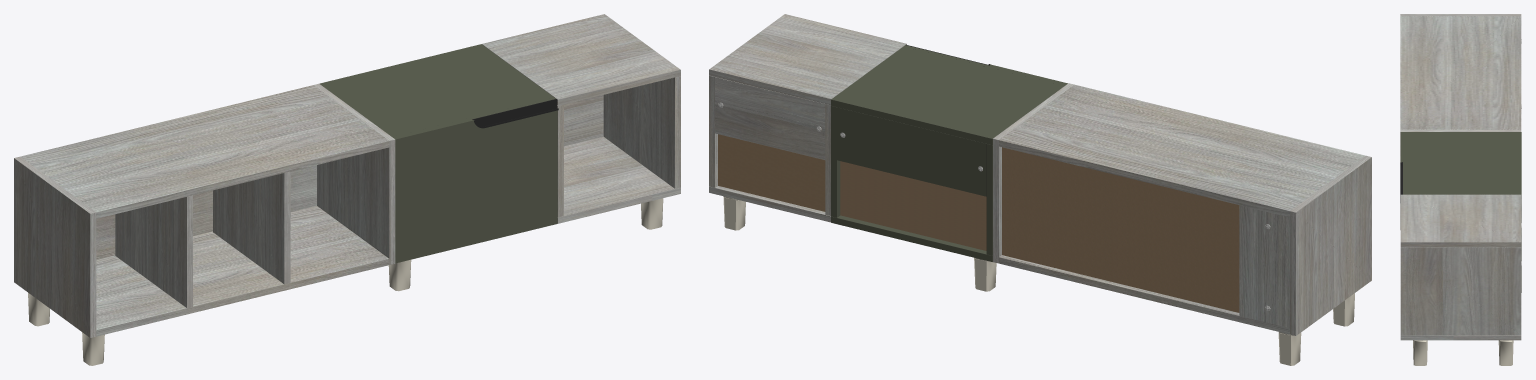
3 views of the same model, side by side, from view 1: azimuth 30°, elevation 25°; view 2: azimuth 150°, elevation 25°; view 3: azimuth 270°, elevation 25° (orthographic). The views are drawn at different scales.
Parts seen in each view (by area): view 1: Cube.005, group_0.148, group_0.145, group_0.114, Plane, group_0.149; view 2: Cube.005, group_0.148, group_0.145, group_0.150, Plane.001, group_0.114; view 3: group_0.145, Cube.005, group_0.148, group_0.114.
Boxes of the visible parts, x1=… form: Cube.005: x1=14, y1=83, x2=395, y2=337; group_0.148: x1=319, y1=44, x2=557, y2=263; group_0.145: x1=482, y1=14, x2=680, y2=223; group_0.114: x1=28, y1=198, x2=663, y2=365; Plane: x1=564, y1=95, x2=603, y2=146; group_0.149: x1=472, y1=99, x2=558, y2=128; Cube.005: x1=993, y1=83, x2=1371, y2=335; group_0.148: x1=831, y1=45, x2=1067, y2=261; group_0.145: x1=709, y1=14, x2=906, y2=222; group_0.150: x1=840, y1=161, x2=986, y2=250; Plane.001: x1=718, y1=129, x2=825, y2=211; group_0.114: x1=723, y1=196, x2=1354, y2=365; group_0.145: x1=1400, y1=194, x2=1521, y2=340; Cube.005: x1=1400, y1=14, x2=1521, y2=229; group_0.148: x1=1400, y1=132, x2=1521, y2=292; group_0.114: x1=1413, y1=340, x2=1513, y2=365.
Size of the model in its own units: 1.74 by 0.4532 by 0.391.
Materials: 11 (6 with a texture image).
